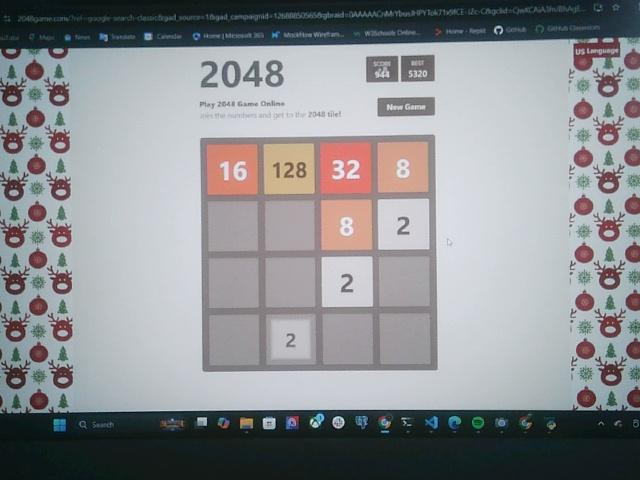board: (200, 137, 439, 370)
tile: (321, 199, 373, 251), (378, 198, 430, 250), (208, 143, 258, 196), (378, 142, 429, 193), (322, 257, 373, 308), (267, 313, 317, 365), (265, 144, 315, 195), (321, 143, 371, 194)
